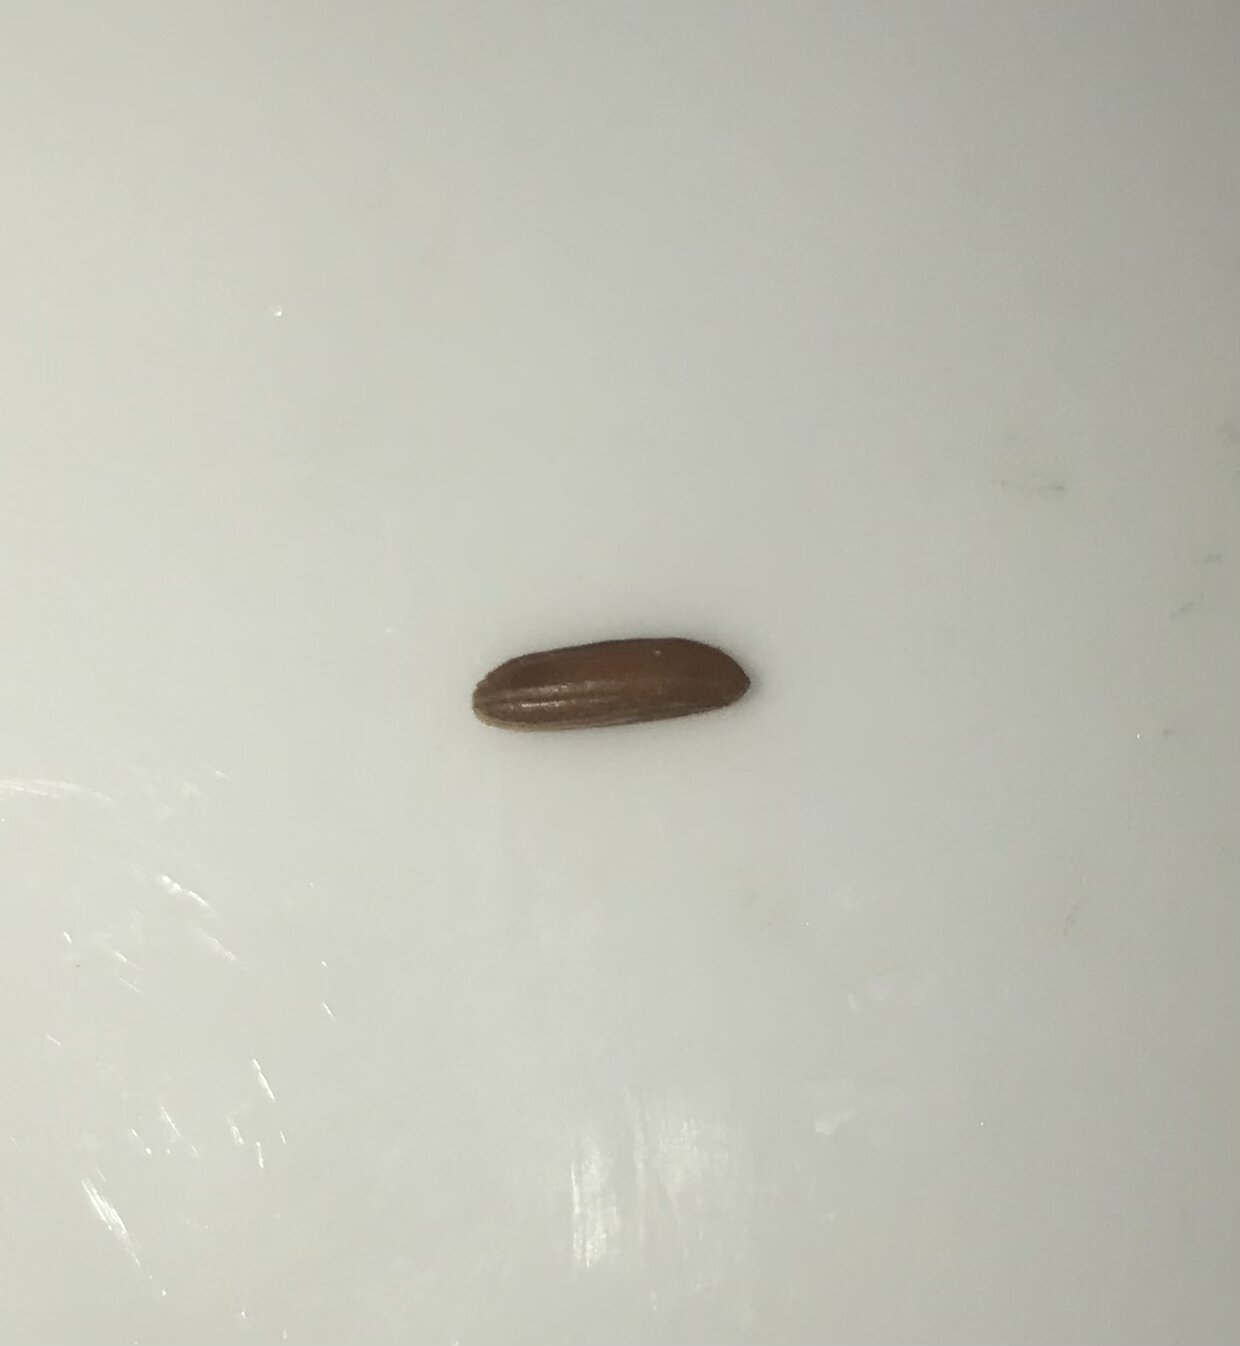Gao Huyet Rong: (469, 623, 758, 737)
